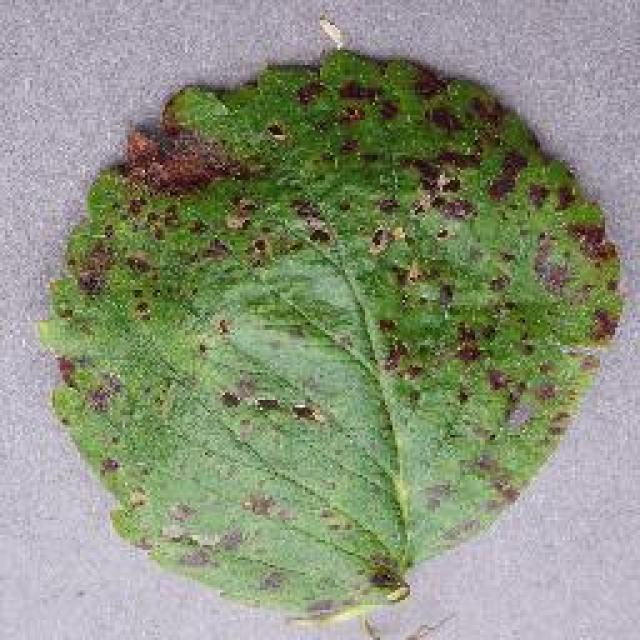Strawberry___Leaf_scorch: (82, 67, 583, 507)
